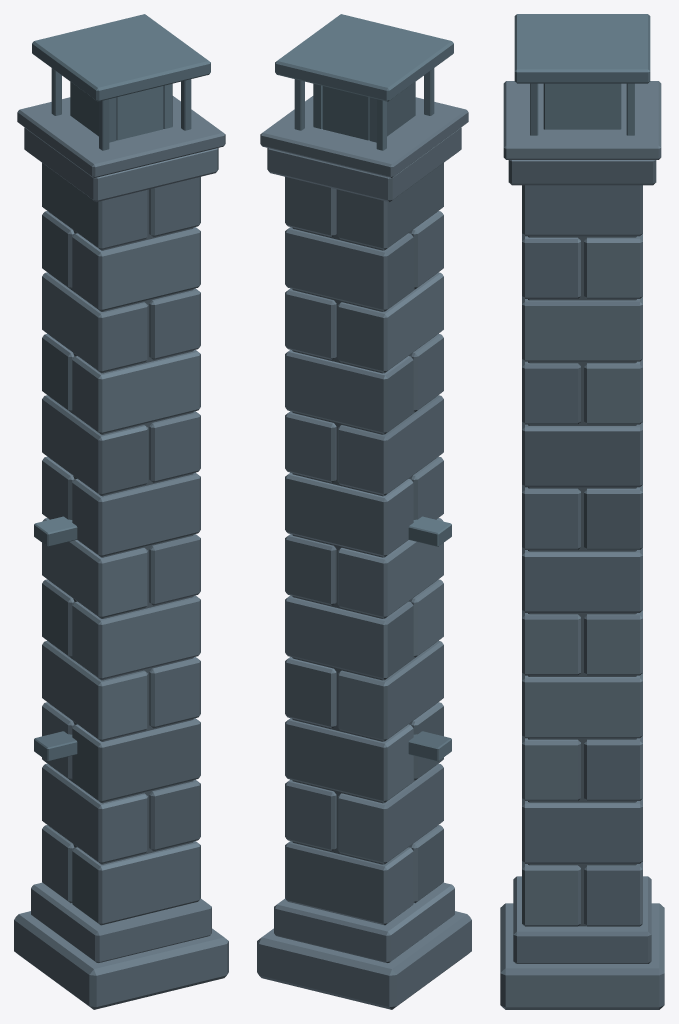
The model's file is QH_Chimney.fbx.
3 views of the same model, side by side, from view 1: azimuth 30°, elevation 25°; view 2: azimuth 150°, elevation 25°; view 3: azimuth 270°, elevation 25° (orthographic). The views are drawn at different scales.
Parts seen in each view (by area): view 1: QH_Chimney; view 2: QH_Chimney; view 3: QH_Chimney.
Part boxes in pixels (x1,y1,x2,y2): QH_Chimney: (14, 14, 228, 1009); QH_Chimney: (257, 14, 471, 1009); QH_Chimney: (500, 14, 664, 1009).
Bounding box in the file's own units: 0.735 × 4.26 × 0.68.
